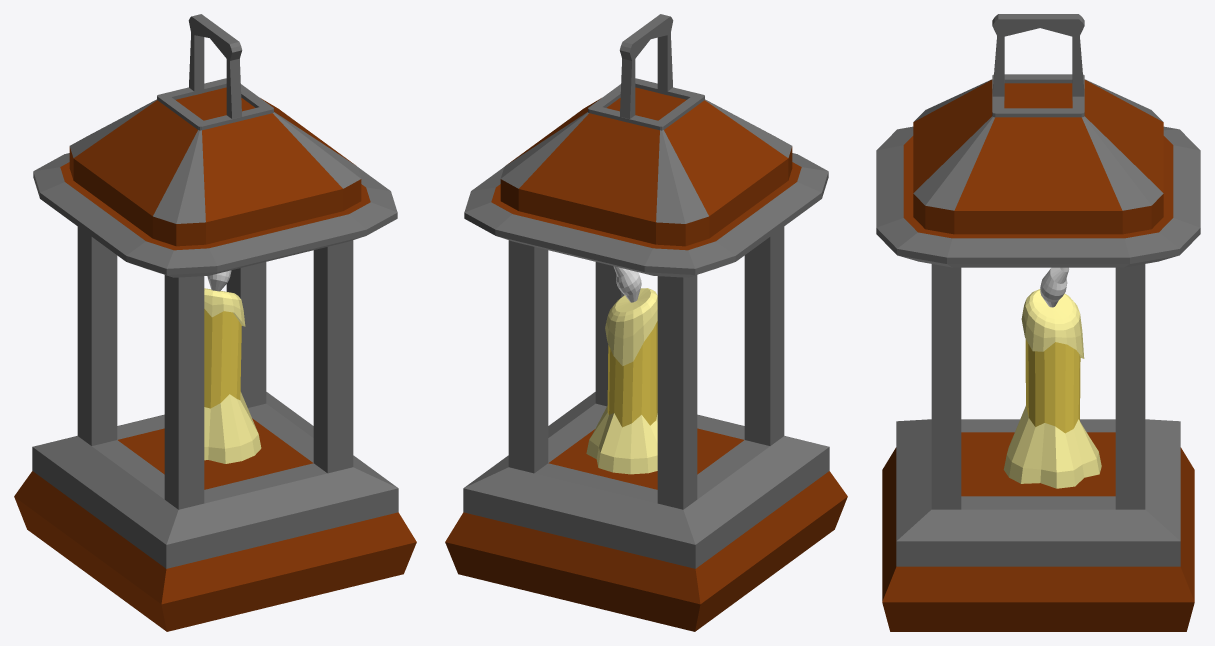
File: graveyardLantern.fbx
3 views of the same model, side by side, from view 1: azimuth 30°, elevation 25°; view 2: azimuth 150°, elevation 25°; view 3: azimuth 270°, elevation 25° (orthographic). The views are drawn at different scales.
Parts seen in each view (by area): view 1: Cube, Cylinder; view 2: Cube, Cylinder; view 3: Cube, Cylinder.
Part boxes in pixels (x1,y1,x2,y2): Cube: [14, 14, 416, 631]; Cylinder: [204, 270, 261, 463]; Cube: [445, 14, 847, 631]; Cylinder: [586, 266, 657, 474]; Cube: [876, 14, 1200, 631]; Cylinder: [1003, 267, 1101, 488].
Size of the model in its own units: 200 by 377 by 200.
